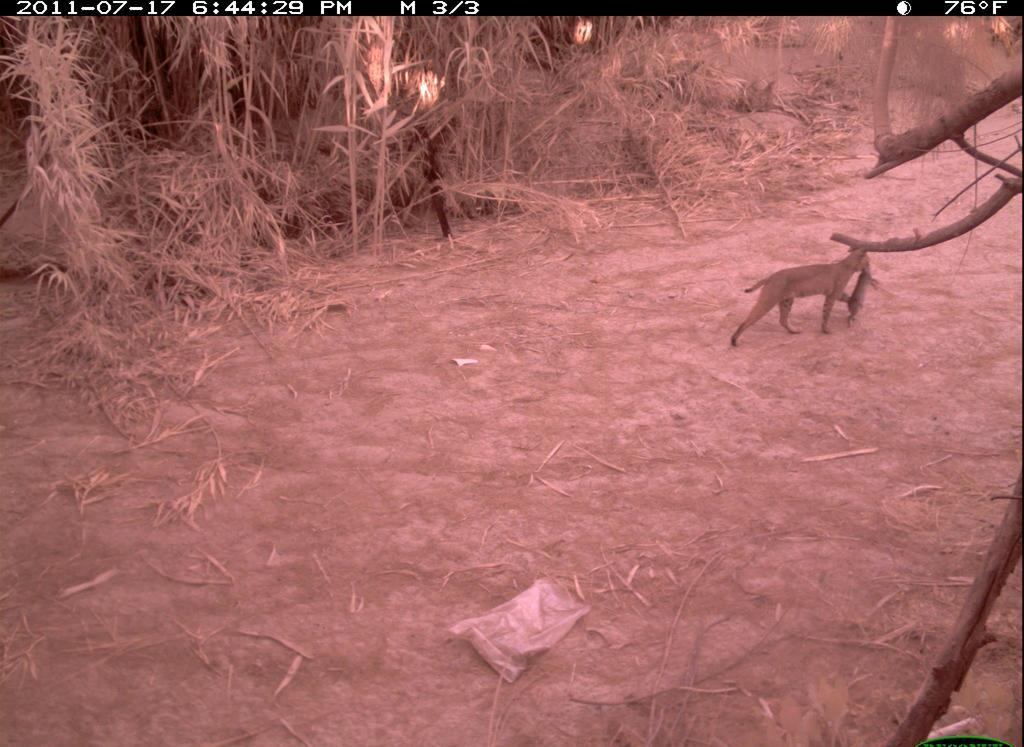bobcat: (729, 240, 885, 353)
